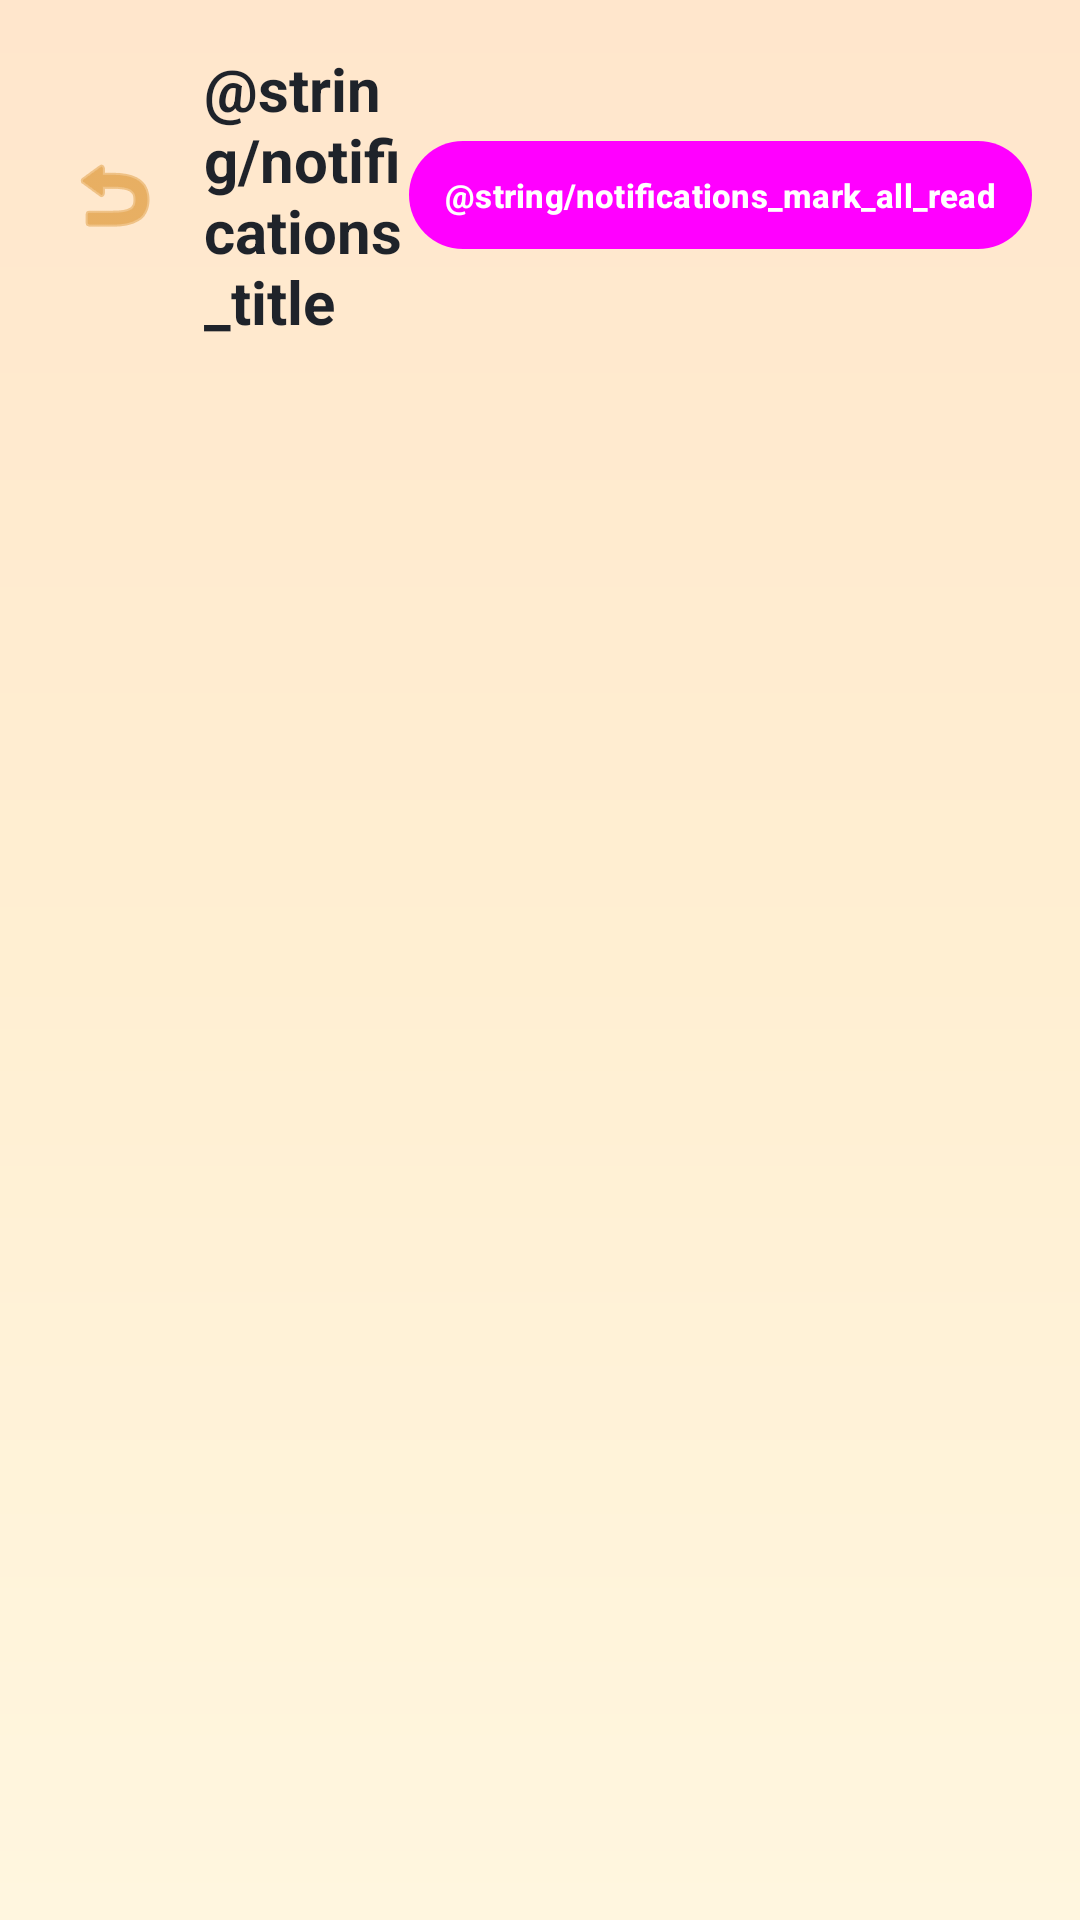

Where icons sit on this 1080w x 1920h app screen, as region(x1, y1, x2, y2):
Cancel: region(81, 164, 150, 227)
